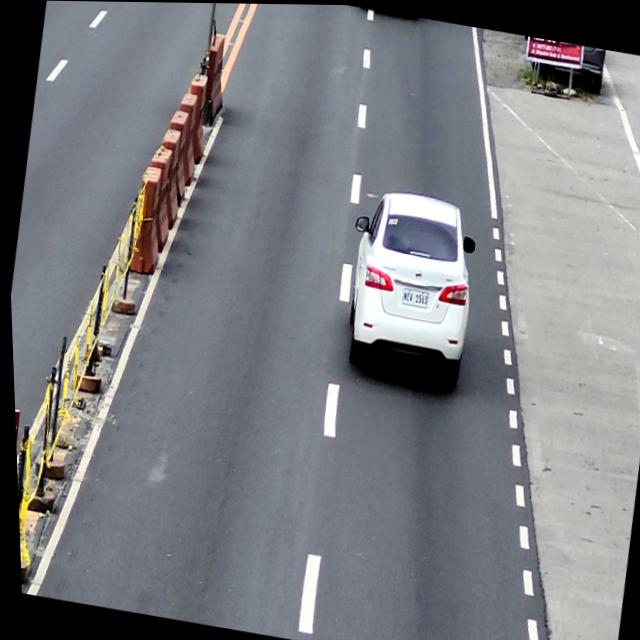Car: (331, 183, 486, 387)
License-Plate: (400, 287, 427, 307)
